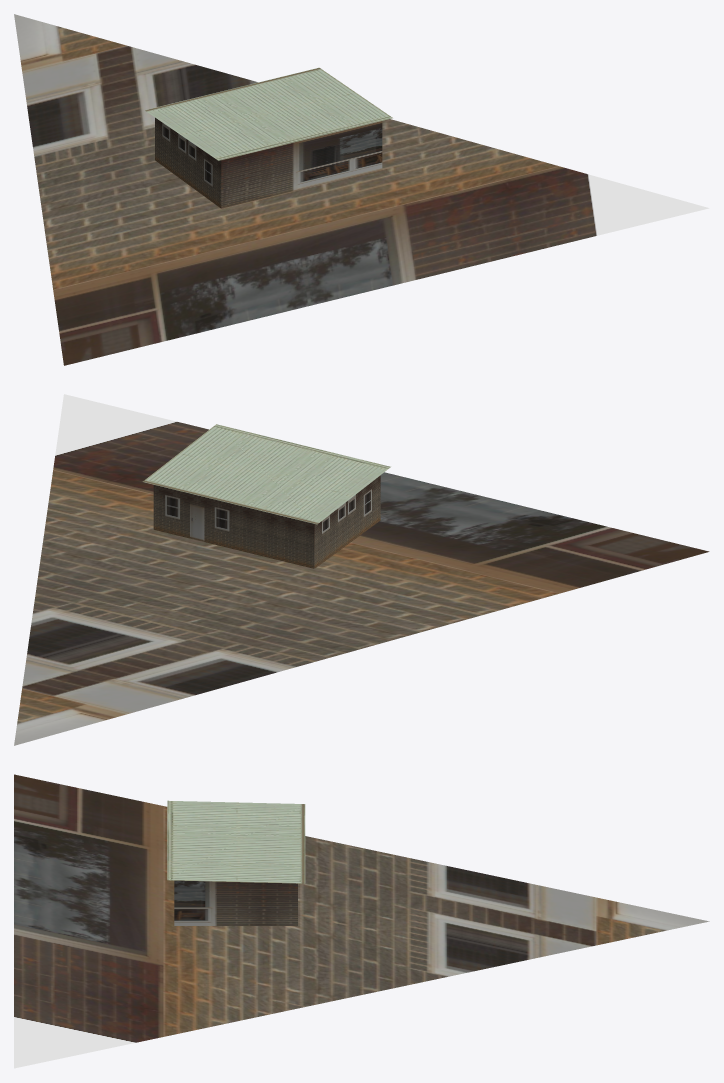
File: terminal-tiny-03-10x7-cbj_LOD02.gltf
3 views of the same model, one above another, from view 1: azimuth 30°, elevation 25°; view 2: azimuth 150°, elevation 25°; view 3: azimuth 270°, elevation 25° (orthographic). The views are drawn at different scales.
Parts seen in each view (by area): view 1: Sketchup02; view 2: Sketchup02; view 3: Sketchup02.
Part boxes in pixels (left/top/right/bottom): Sketchup02: left=14, top=14, right=709, bottom=365; Sketchup02: left=14, top=394, right=709, bottom=745; Sketchup02: left=14, top=774, right=709, bottom=1068.
Bounding box in the file's own units: 38.78 × 5 × 38.78.
